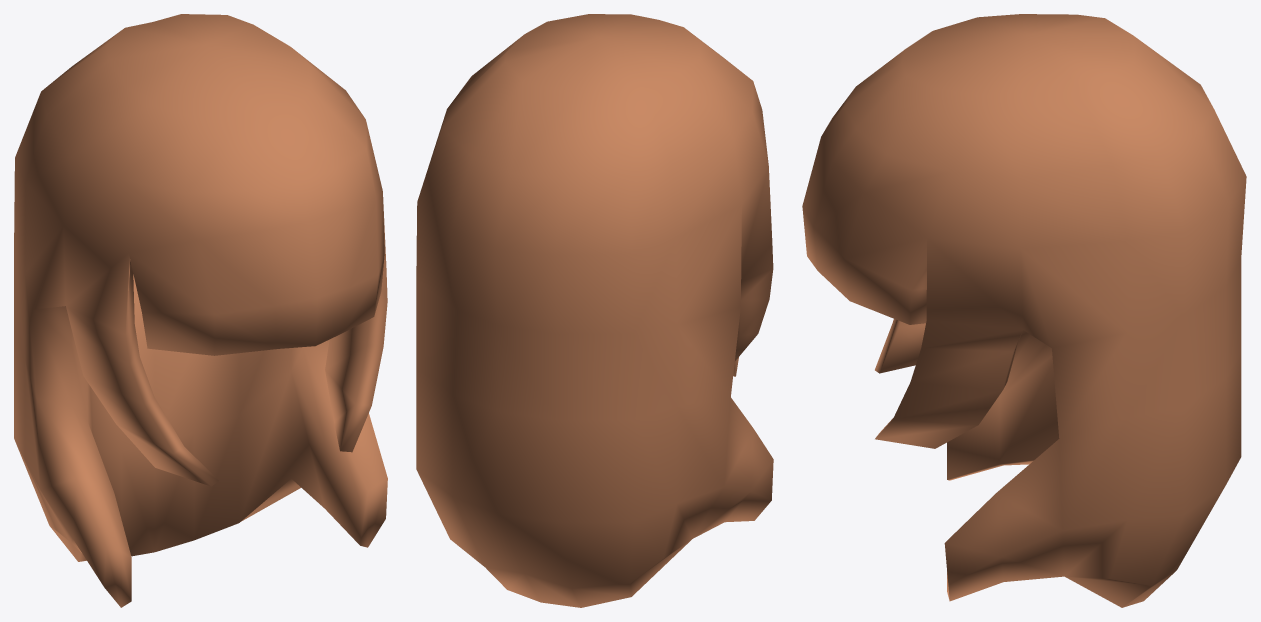
Rendered from SimpleHime.fbx.
3 views of the same model, side by side, from view 1: azimuth 30°, elevation 25°; view 2: azimuth 150°, elevation 25°; view 3: azimuth 270°, elevation 25° (orthographic). The views are drawn at different scales.
Parts seen in each view (by area): view 1: 03 Hair - Simple Hime; view 2: 03 Hair - Simple Hime; view 3: 03 Hair - Simple Hime.
Boxes of the visible parts, left/top/right/bottom form: 03 Hair - Simple Hime: left=14, top=14, right=387, bottom=607; 03 Hair - Simple Hime: left=416, top=14, right=773, bottom=607; 03 Hair - Simple Hime: left=802, top=14, right=1246, bottom=607.
Size of the model in its own units: 0.2421 by 0.3954 by 0.2901.
